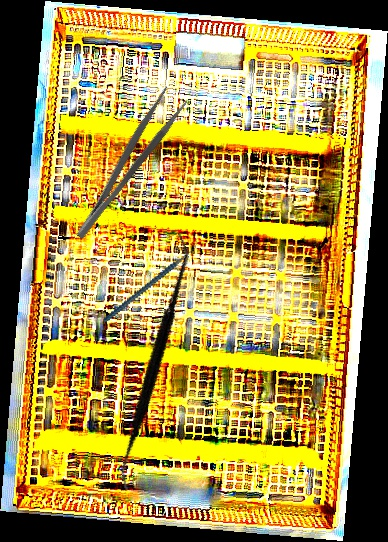Chopper: (88, 237, 214, 323)
Dressing Forceps: (61, 85, 190, 242)
Spatula Surgical: (57, 233, 249, 491)
